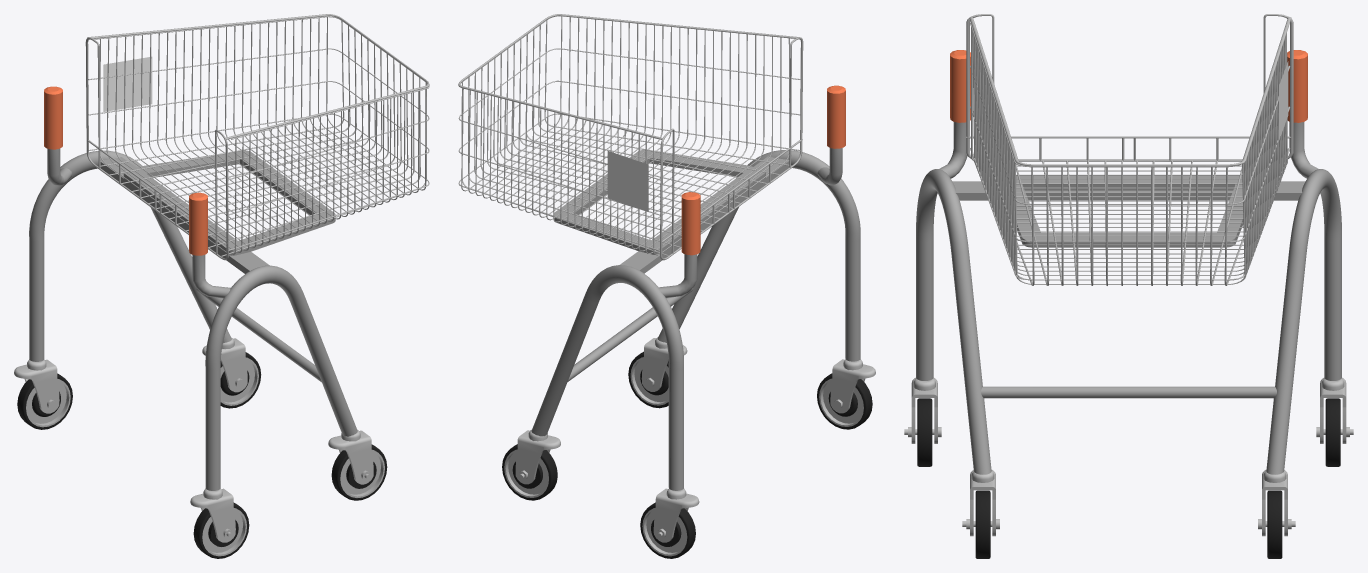
3 views of the same model, side by side, from view 1: azimuth 30°, elevation 25°; view 2: azimuth 150°, elevation 25°; view 3: azimuth 270°, elevation 25° (orthographic). The views are drawn at different scales.
Parts seen in each view (by area): view 1: instance_19 (×6), instance_4 (×2), instance_7 (×4), instance_8 (×7), instance_10 (×4), instance_1, instance_0, image_0, instance_20; view 2: instance_19 (×5), instance_4 (×2), instance_7 (×4), instance_8 (×7), instance_10 (×4), instance_1, instance_0, image_0, instance_20; view 3: instance_19 (×4), instance_4 (×2), instance_0, instance_1, instance_8 (×4), instance_10 (×4), instance_20, instance_7 (×4), image_0.
Part boxes in pixels (x1,y1,x2,y2): instance_19 (×6): (85,14,429,260); instance_4 (×2): (29,150,357,490); instance_7 (×4): (14,337,373,542); instance_8 (×7): (17,359,387,558); instance_10 (×4): (44,86,230,298); instance_1: (100,150,292,222); instance_0: (177,182,335,273); image_0: (103,56,152,111); instance_20: (196,288,321,382); instance_19 (×5): (458,14,803,260); instance_4 (×2): (531,150,860,490); instance_7 (×4): (515,337,875,542); instance_8 (×7): (502,359,872,558); instance_10 (×4): (659,85,845,297); instance_1: (554,182,712,273); instance_0: (598,150,789,221); image_0: (607,151,648,211); instance_20: (567,288,693,381); instance_19 (×4): (966,14,1293,285); instance_4 (×2): (916,169,1341,474); instance_0: (952,175,1128,247); instance_1: (1129,175,1305,247); instance_8 (×4): (917,398,1340,558); instance_10 (×4): (939,50,1318,178); instance_20: (981,386,1276,398); instance_7 (×4): (911,377,1346,536); image_0: (1279,61,1288,139).
Size of the model in its own units: 25.16 by 30 by 34.12.
